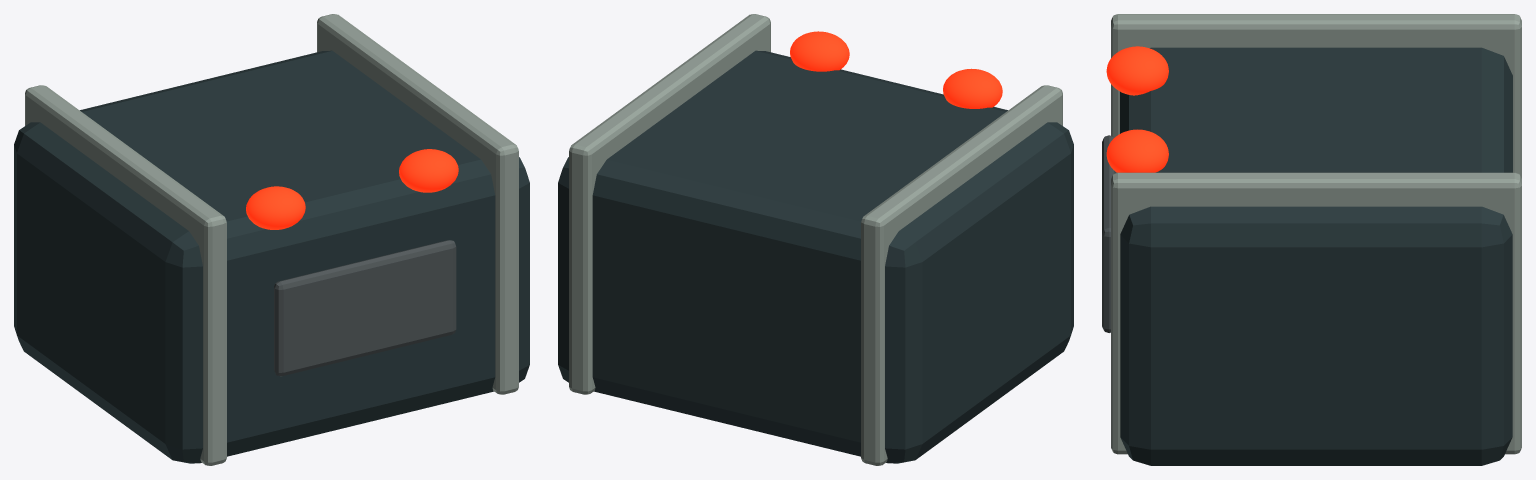
File: battlecity-bomb-item.glb
3 views of the same model, side by side, from view 1: azimuth 30°, elevation 25°; view 2: azimuth 150°, elevation 25°; view 3: azimuth 270°, elevation 25° (orthographic). The views are drawn at different scales.
Parts seen in each view (by area): view 1: DX dark machinery, Brushed steel, Armour panel joints, Warning red; view 2: DX dark machinery, Brushed steel, Warning red; view 3: DX dark machinery, Brushed steel, Warning red, Armour panel joints.
Part boxes in pixels (x1,y1,x2,y2): DX dark machinery: (14, 50, 529, 463); Brushed steel: (25, 14, 518, 465); Armour panel joints: (274, 240, 456, 376); Warning red: (246, 149, 458, 229); DX dark machinery: (558, 50, 1073, 463); Brushed steel: (569, 14, 1062, 465); Warning red: (790, 31, 1002, 108); DX dark machinery: (1120, 47, 1512, 465); Brushed steel: (1111, 14, 1521, 454); Warning red: (1106, 46, 1168, 172); Armour panel joints: (1102, 135, 1116, 332).
Bounding box in the file's own units: 0.52 × 0.355 × 0.47.
